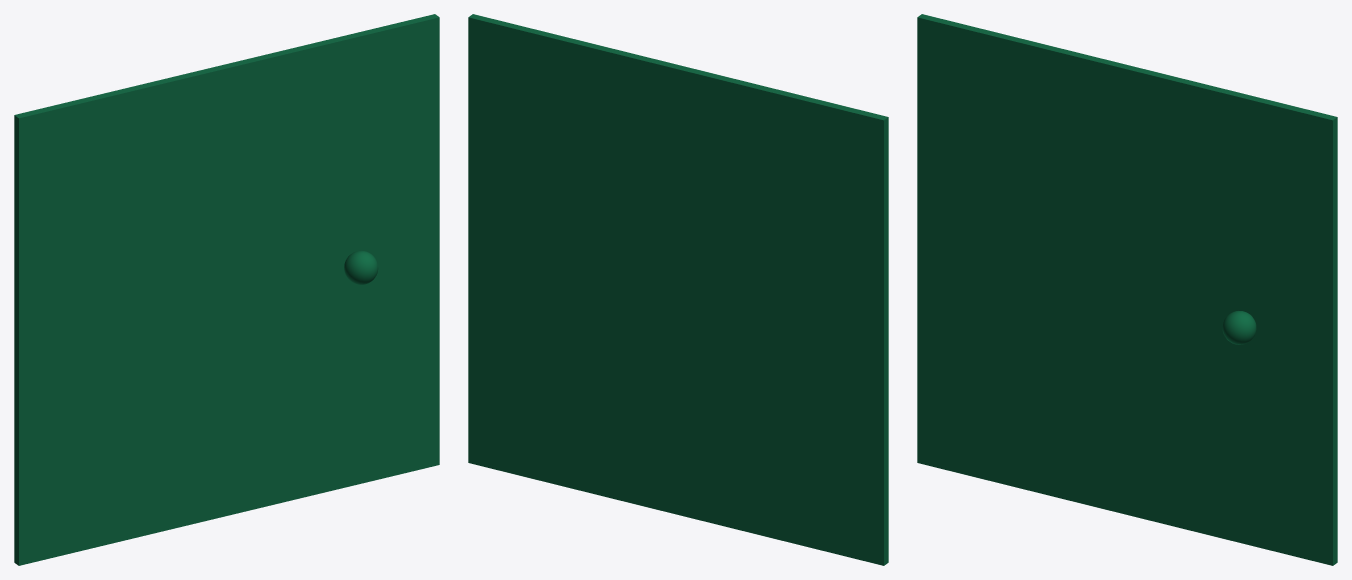
File: puertaIzqBuro.OBJ
3 renders of one model, left to right at view 1: azimuth 30°, elevation 25°; view 2: azimuth 150°, elevation 25°; view 3: azimuth 330°, elevation 25°, orthographic.
Visible parts, largest first — view 1: pSphere3; view 2: pSphere3; view 3: pSphere3.
Part boxes in pixels (x1,y1,x2,y2): pSphere3: [14, 14, 439, 565]; pSphere3: [468, 14, 888, 565]; pSphere3: [917, 14, 1337, 565].
Size of the model in its own units: 0.9802 by 1 by 0.0914.
1 material, 1 textured.
